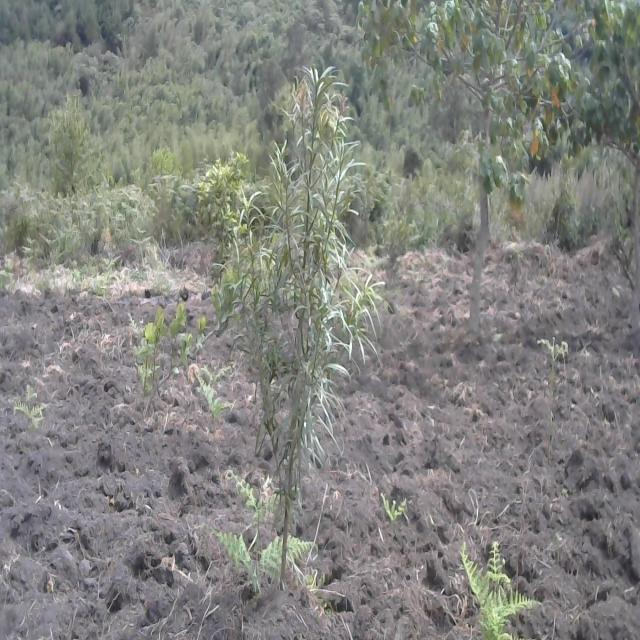Croton machrostychus: (357, 0, 595, 286)
Podocarpus falcatus: (226, 66, 387, 570)
